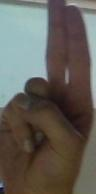U: (1, 2, 95, 186)
